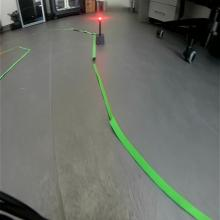red: (97, 15, 102, 23)
